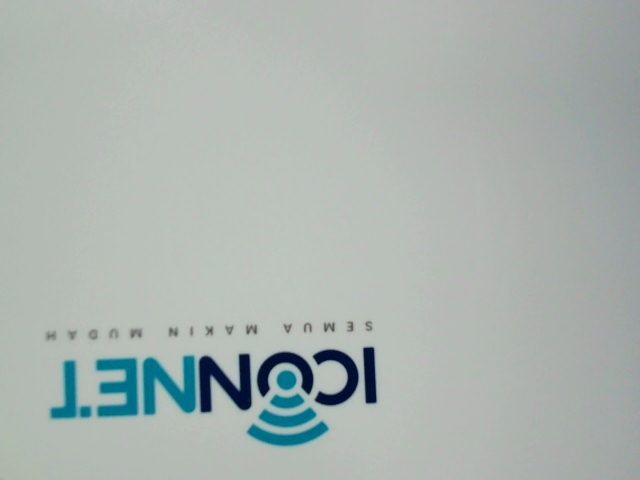BM_ICONNET: (34, 315, 398, 454)
